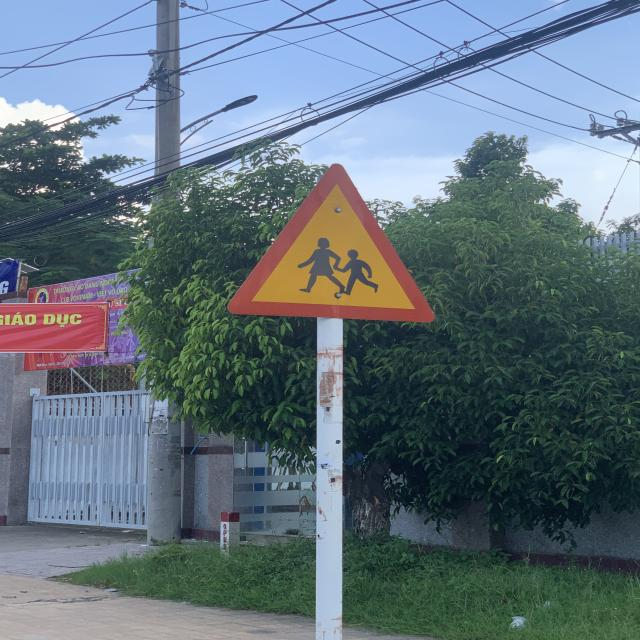Vong_Xuyen: (227, 154, 439, 321)
